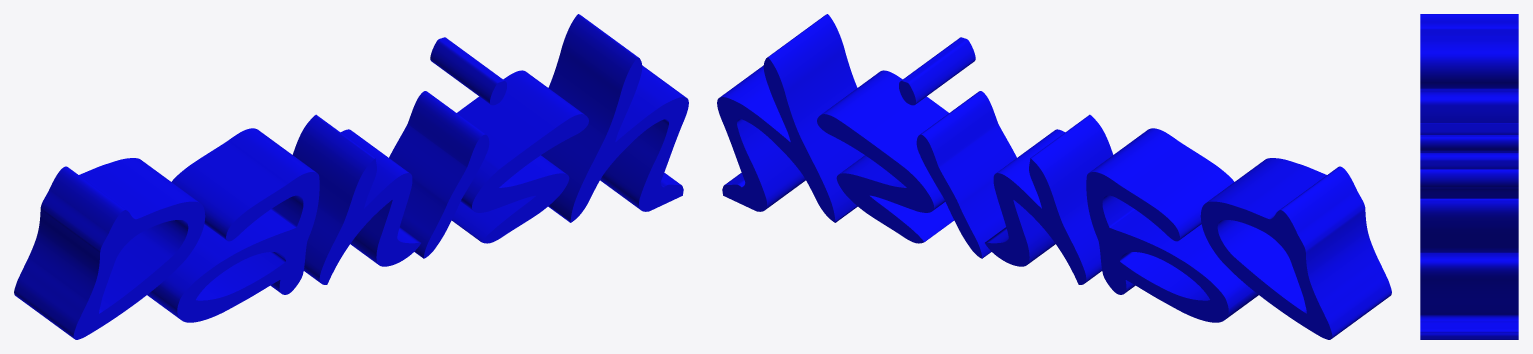
The picture shows the model from 3 angles, left to right: view 1: azimuth 30°, elevation 25°; view 2: azimuth 150°, elevation 25°; view 3: azimuth 270°, elevation 25°; orthographic projection. The views are drawn at different scales.
Visible parts, largest first — view 1: Danish; view 2: Danish; view 3: Danish.
Boxes of the visible parts, x1,y1,x2,y2 form: Danish: (14, 14, 688, 339); Danish: (717, 14, 1391, 339); Danish: (1420, 14, 1518, 339).
Size of the model in its own units: 2.68 by 0.6928 by 0.45.
